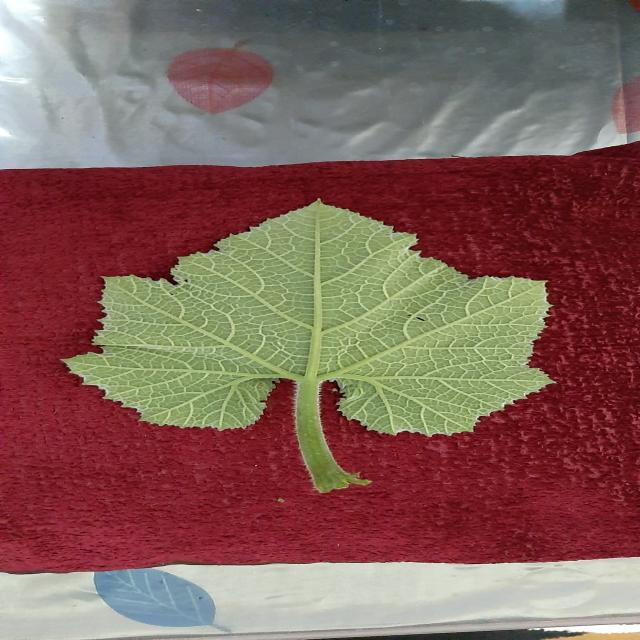pumpkin: (65, 201, 550, 491)
